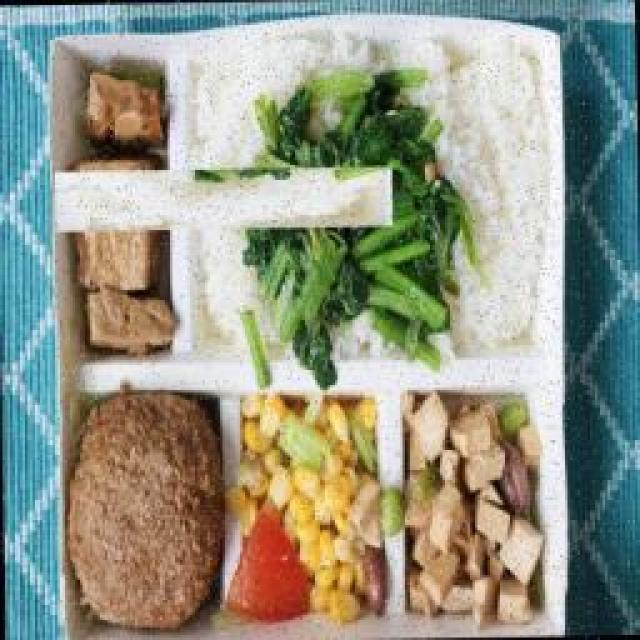rice: (123, 98, 326, 301), (440, 35, 553, 360)
